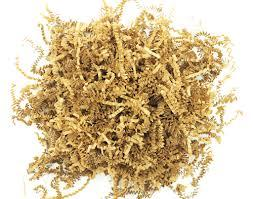Paper shavings: (12, 13, 239, 199)
